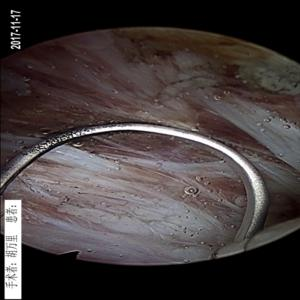film: (14, 31, 293, 237)
